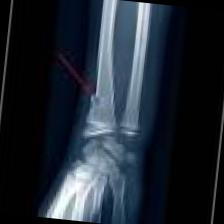greenstick-fracture: (37, 0, 173, 224)
